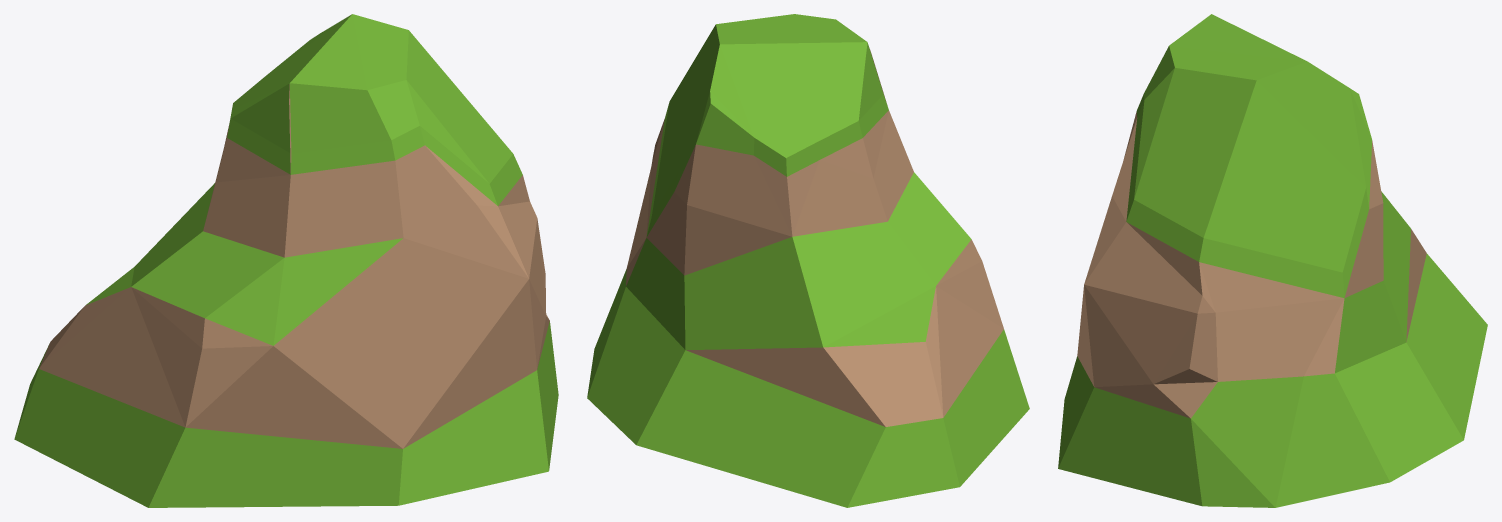
The model's file is Rock_24_1.fbx.
3 renders of one model, left to right at view 1: azimuth 30°, elevation 25°; view 2: azimuth 150°, elevation 25°; view 3: azimuth 270°, elevation 25°, orthographic. The views are drawn at different scales.
Visible parts, largest first — view 1: Rock_24_1; view 2: Rock_24_1; view 3: Rock_24_1.
Part boxes in pixels (x1=…): Rock_24_1: x1=14, y1=14, x2=558, y2=507; Rock_24_1: x1=587, y1=14, x2=1029, y2=507; Rock_24_1: x1=1058, y1=14, x2=1487, y2=507.
Size of the model in its own units: 5.53 by 4.46 by 4.64.
